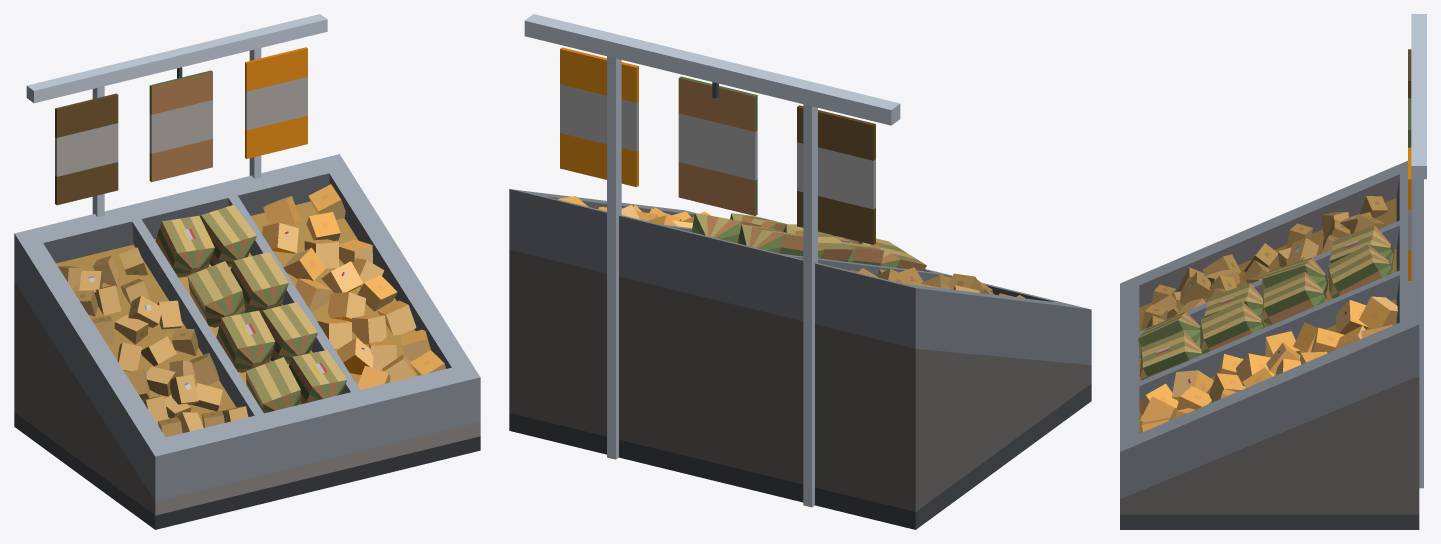
The model's file is rottenfruit2.fbx.
3 renders of one model, left to right at view 1: azimuth 30°, elevation 25°; view 2: azimuth 150°, elevation 25°; view 3: azimuth 270°, elevation 25°, orthographic. The views are drawn at different scales.
Parts seen in each view (by area): view 1: SI_Prop_ProduceSection_02; view 2: SI_Prop_ProduceSection_02; view 3: SI_Prop_ProduceSection_02.
Boxes of the visible parts, box(x1,y1,x2,y2) form: SI_Prop_ProduceSection_02: box(14, 14, 480, 529); SI_Prop_ProduceSection_02: box(509, 14, 1091, 529); SI_Prop_ProduceSection_02: box(1120, 14, 1426, 529).
Bounding box in the file's own units: 4 × 3.93 × 3.08.
